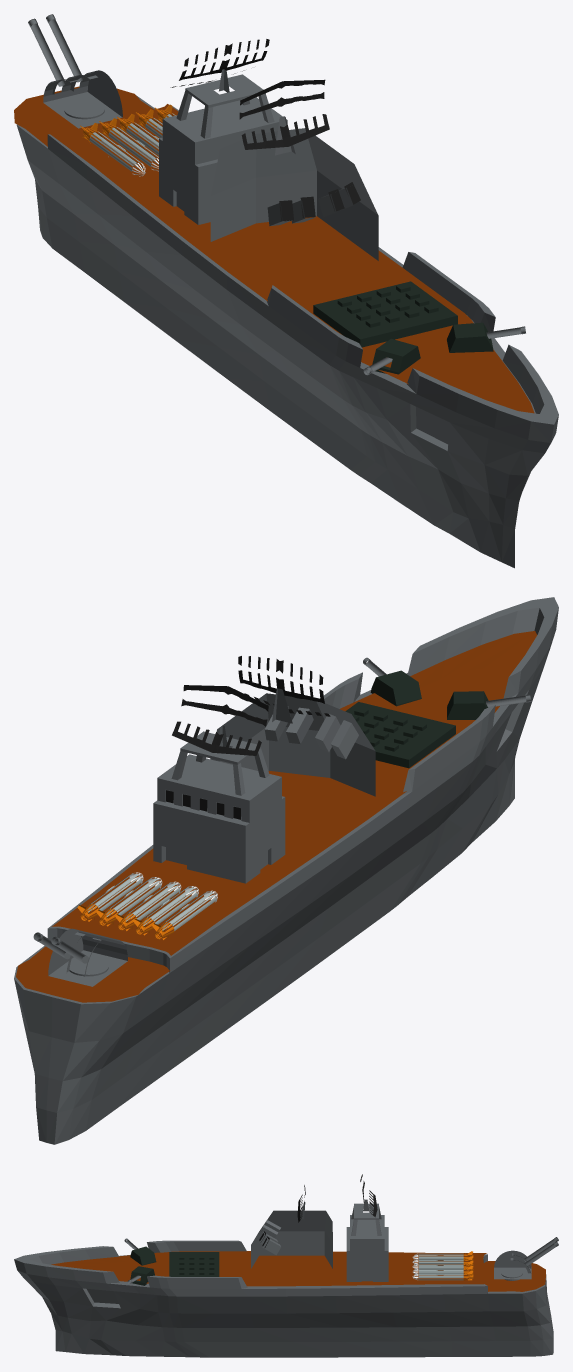
Rendered from Cruiser.glb.
3 renders of one model, top to bottom at view 1: azimuth 30°, elevation 25°; view 2: azimuth 150°, elevation 25°; view 3: azimuth 270°, elevation 25°, orthographic. The views are drawn at different scales.
Parts seen in each view (by area): view 1: deck; view 2: deck; view 3: deck.
Part boxes in pixels (x1=…): deck: x1=14, y1=14, x2=558, y2=568; deck: x1=14, y1=597, x2=558, y2=1144; deck: x1=14, y1=1174, x2=558, y2=1357.
Bounding box in the file's own units: 0.7797 × 1.46 × 4.19.
